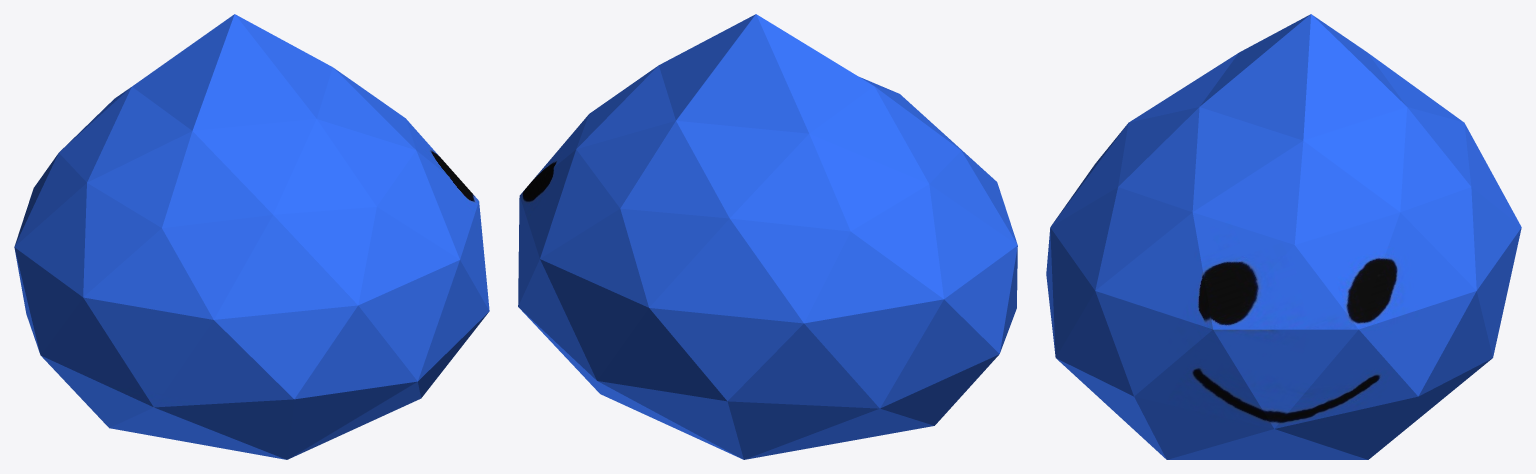
File: BlueSlime.fbx
The picture shows the model from 3 angles, left to right: view 1: azimuth 30°, elevation 25°; view 2: azimuth 150°, elevation 25°; view 3: azimuth 270°, elevation 25°; orthographic projection. The views are drawn at different scales.
Parts seen in each view (by area): view 1: Icosphere; view 2: Icosphere; view 3: Icosphere.
Boxes of the visible parts, bbox=[...] form: Icosphere: bbox=[14, 14, 489, 459]; Icosphere: bbox=[518, 14, 1017, 459]; Icosphere: bbox=[1046, 14, 1521, 459].
Size of the model in its own units: 227 by 213 by 215.
